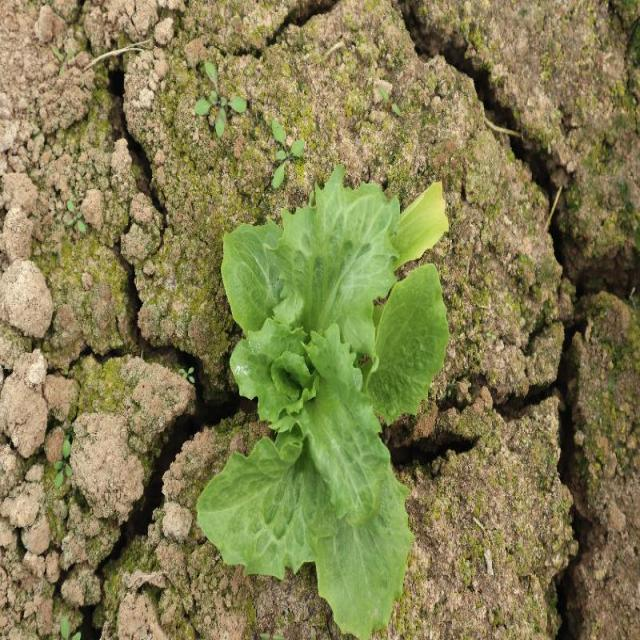crop: (193, 160, 452, 640)
